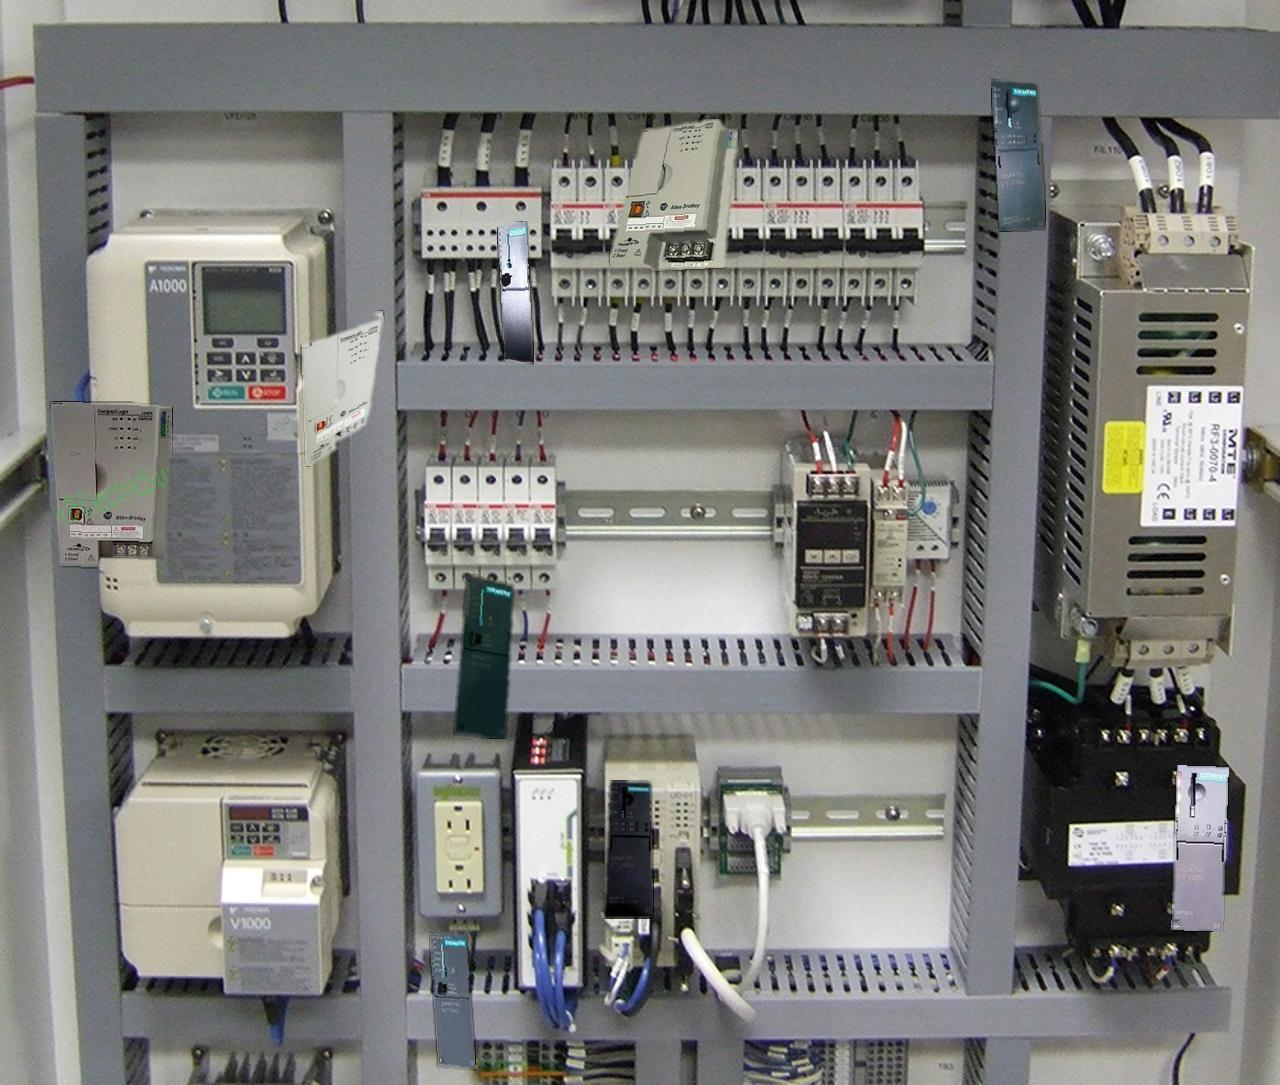AllenBradley: (51, 401, 171, 566), (610, 119, 737, 269), (301, 311, 382, 465)
Siemens: (454, 574, 514, 738), (430, 933, 475, 1068), (498, 221, 533, 362)
